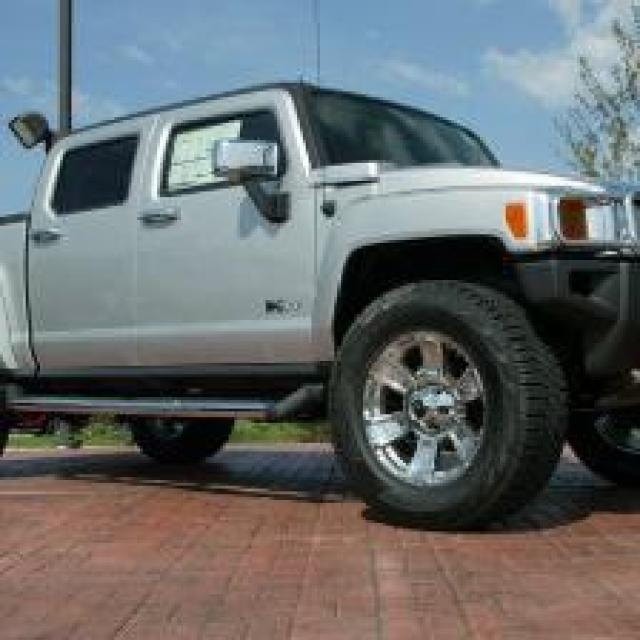damaged: (294, 268, 343, 352)
